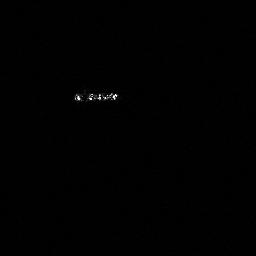ship: (70, 89, 121, 104)
